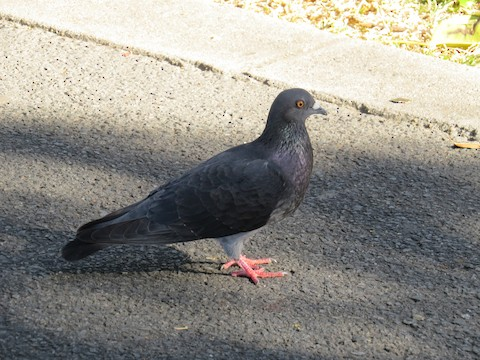pigeon: (59, 82, 333, 288)
